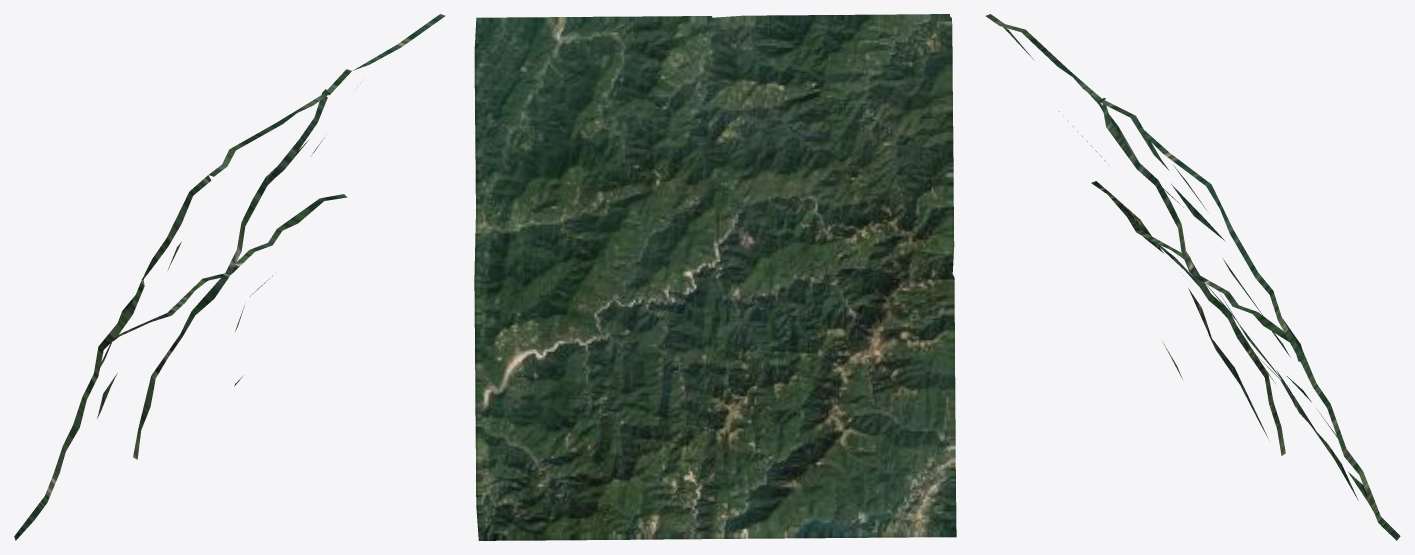
The picture shows the model from 3 angles, left to right: view 1: azimuth 30°, elevation 25°; view 2: azimuth 150°, elevation 25°; view 3: azimuth 270°, elevation 25°; orthographic projection. The views are drawn at different scales.
Size of the model in its own units: 40382 by 36279 by 33107.
Materials: 1 (1 with a texture image).
